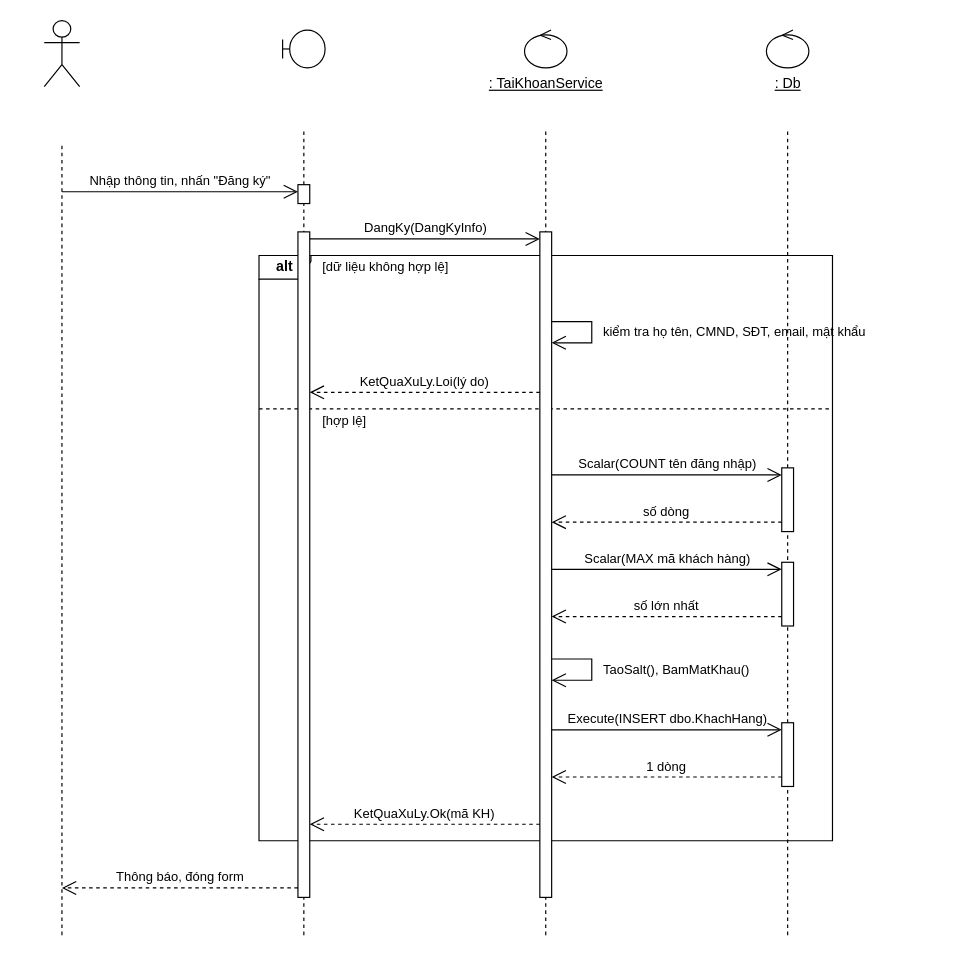
The diagram is 972 pixels wide and 957 high, and some of its shapes have lost their labels. Each missing label, with the box of its shape:
: FrmDangKy: (281, 29, 325, 68)
: Khách hàng: (43, 19, 80, 87)
